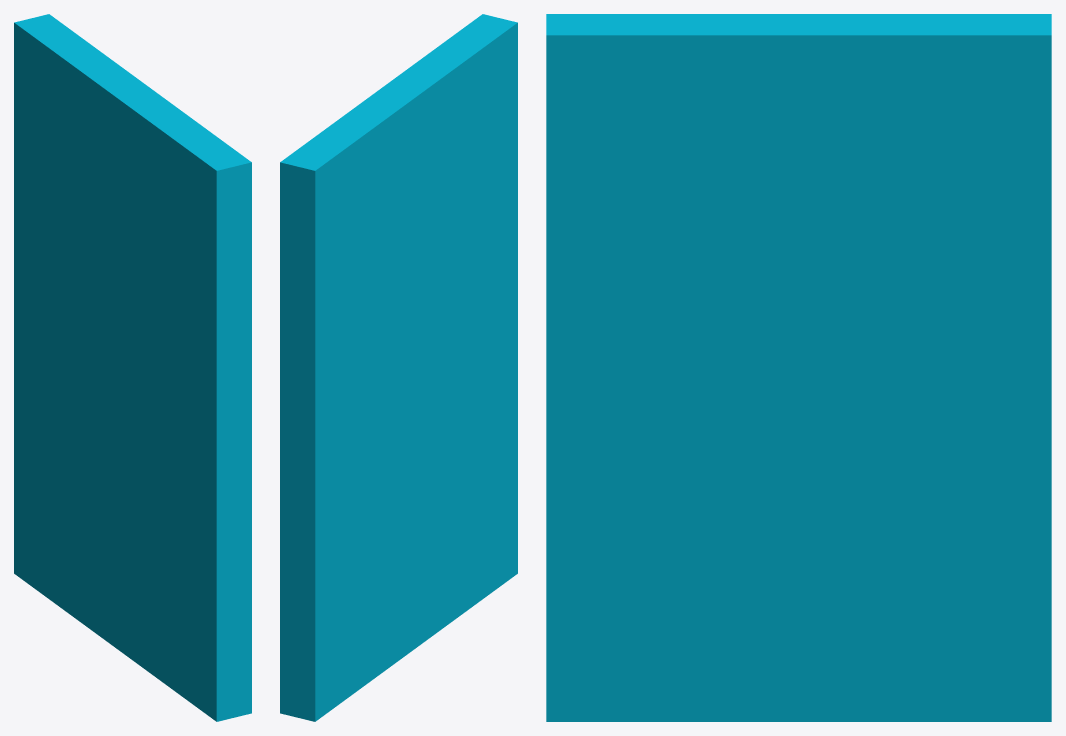
3 views of the same model, side by side, from view 1: azimuth 30°, elevation 25°; view 2: azimuth 150°, elevation 25°; view 3: azimuth 270°, elevation 25° (orthographic). The views are drawn at different scales.
Visible parts, largest first — view 1: oti; view 2: oti; view 3: oti.
Part boxes in pixels (bbox=[...]): oti: bbox=[14, 14, 251, 721]; oti: bbox=[280, 14, 517, 721]; oti: bbox=[546, 14, 1051, 721].
Size of the model in its own units: 200 by 3000 by 2000.
